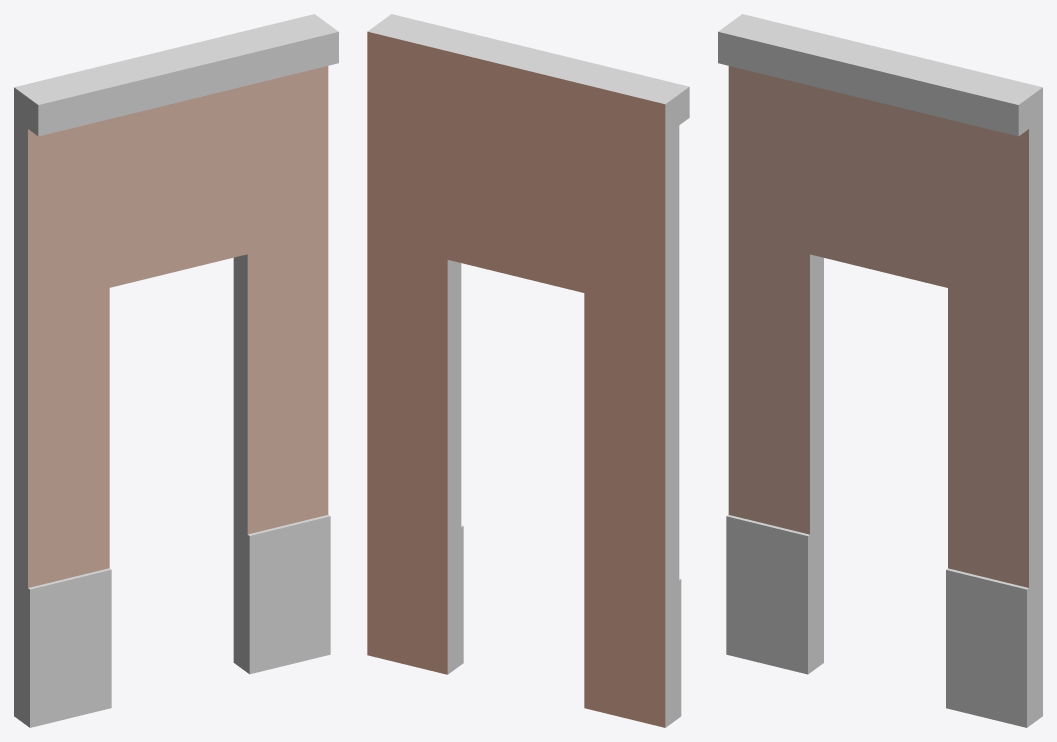
File: Entrance_WallDoor.fbx
3 renders of one model, left to right at view 1: azimuth 30°, elevation 25°; view 2: azimuth 150°, elevation 25°; view 3: azimuth 330°, elevation 25°, orthographic.
Parts seen in each view (by area): view 1: Entrance_WallDoor; view 2: Entrance_WallDoor; view 3: Entrance_WallDoor.
Boxes of the visible parts, x1,y1,x2,y2 form: Entrance_WallDoor: (14, 14, 338, 727); Entrance_WallDoor: (367, 14, 689, 727); Entrance_WallDoor: (718, 14, 1042, 727).
Bounding box in the file's own units: 2.5 × 5 × 0.35.
